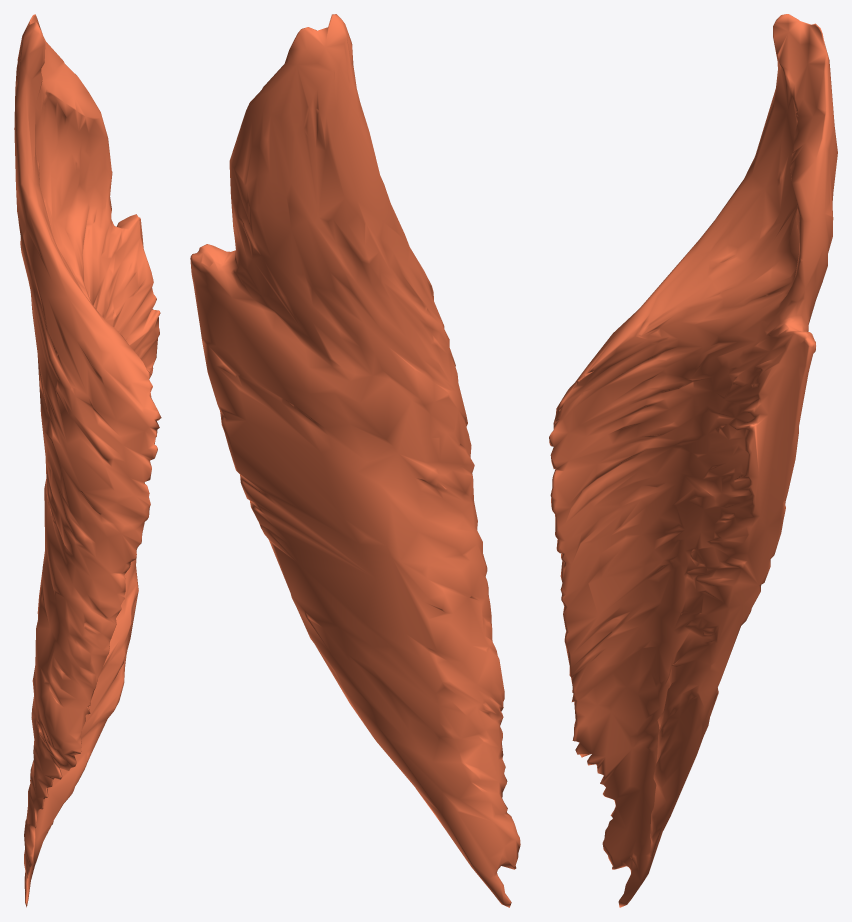
File: Supinator.r_Generated_Mesh_From_X3D.172.glb
3 renders of one model, left to right at view 1: azimuth 30°, elevation 25°; view 2: azimuth 150°, elevation 25°; view 3: azimuth 270°, elevation 25°, orthographic. The views are drawn at different scales.
Visible parts, largest first — view 1: Supinator.r_Generated_Mesh_From_X3D.172; view 2: Supinator.r_Generated_Mesh_From_X3D.172; view 3: Supinator.r_Generated_Mesh_From_X3D.172.
Part boxes in pixels (x1,y1,x2,y2): Supinator.r_Generated_Mesh_From_X3D.172: [14, 14, 161, 907]; Supinator.r_Generated_Mesh_From_X3D.172: [190, 14, 520, 907]; Supinator.r_Generated_Mesh_From_X3D.172: [549, 14, 837, 907].
Size of the model in its own units: 0.0329 by 0.1279 by 0.0356.
